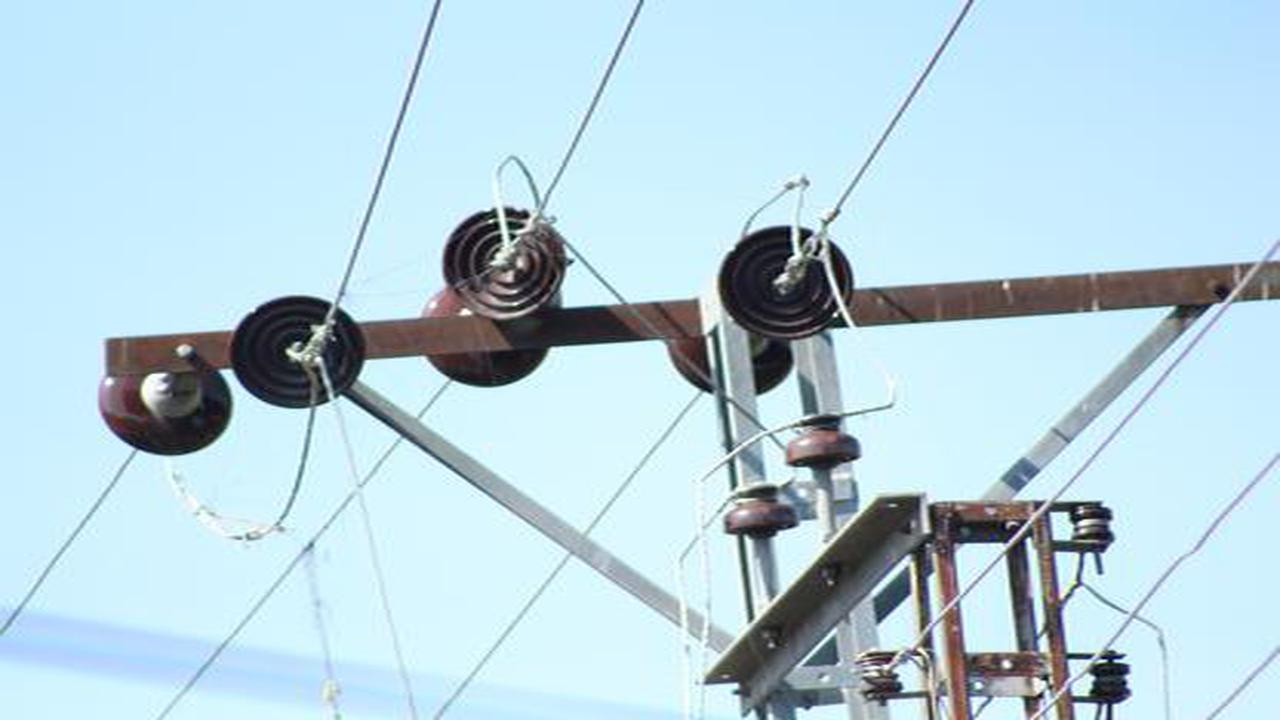insulator_disc: (715, 217, 861, 344), (227, 291, 370, 407), (93, 343, 237, 457), (440, 203, 569, 328)
insulator_pin: (711, 482, 804, 538), (785, 412, 867, 470)
